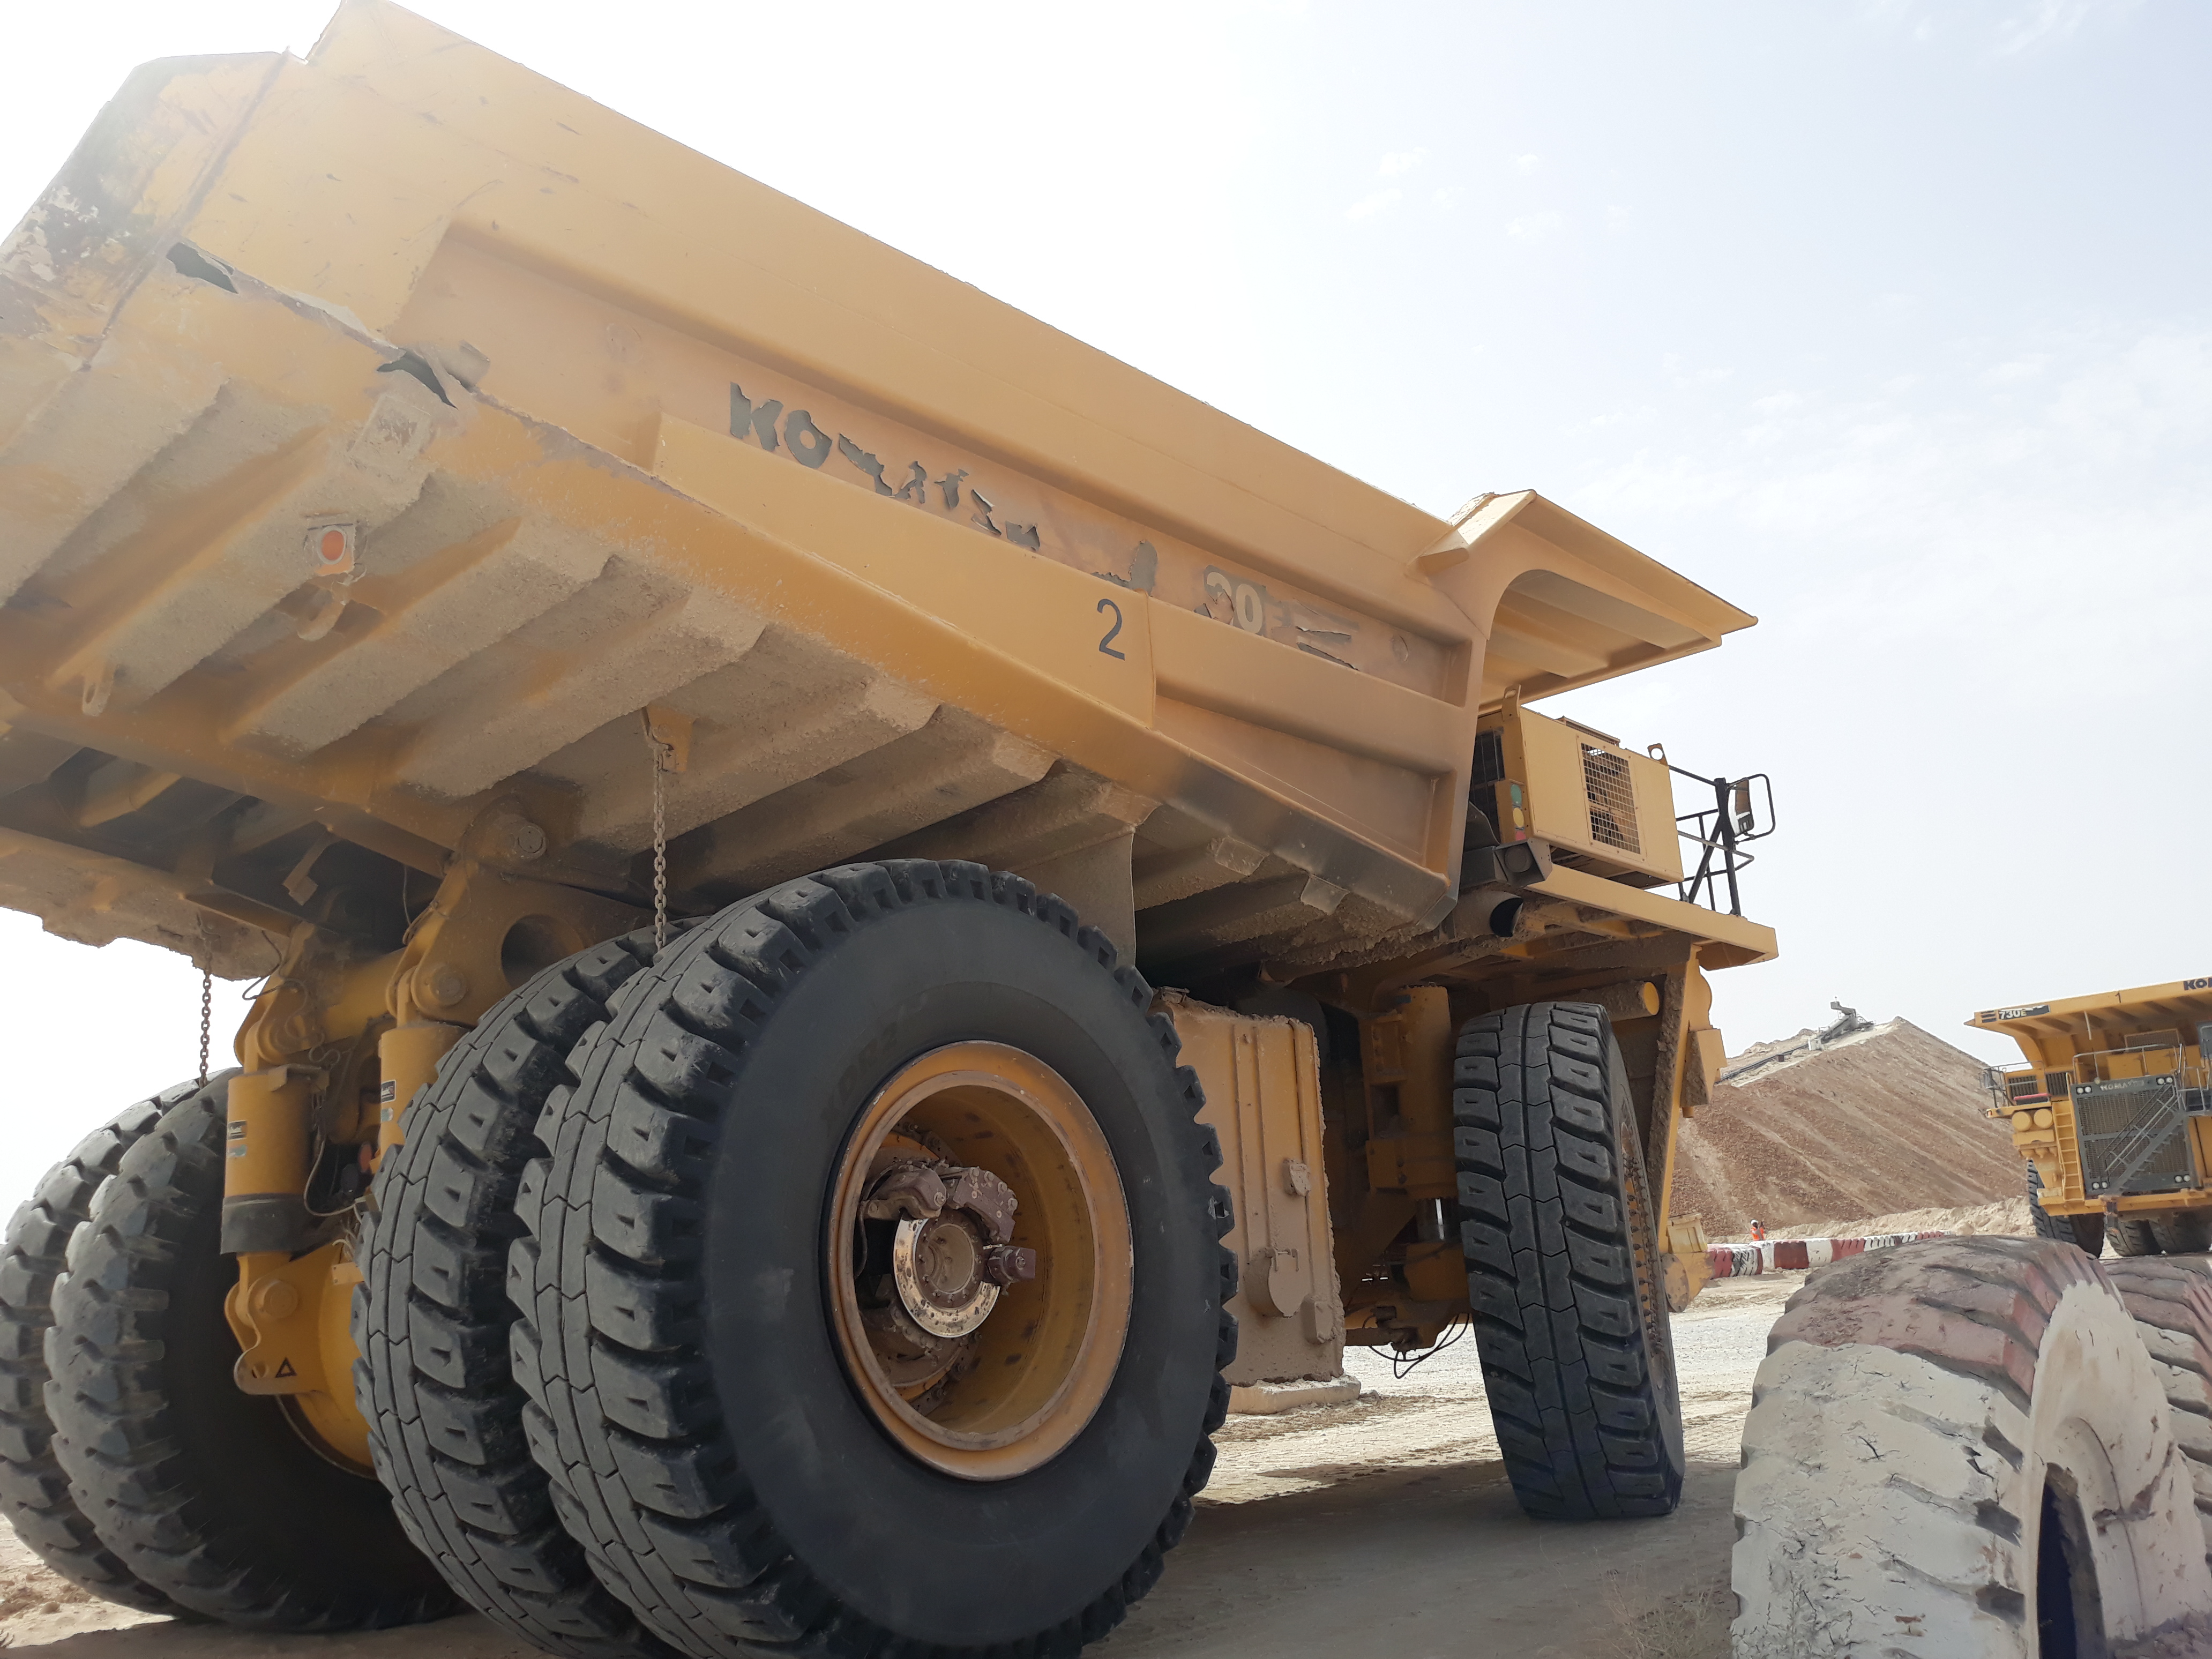camion: (0, 24, 1789, 1629), (1968, 967, 2212, 1265)
